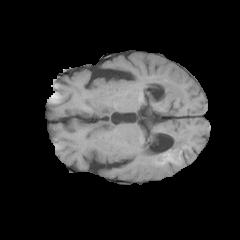glioma: (139, 66, 192, 163)
